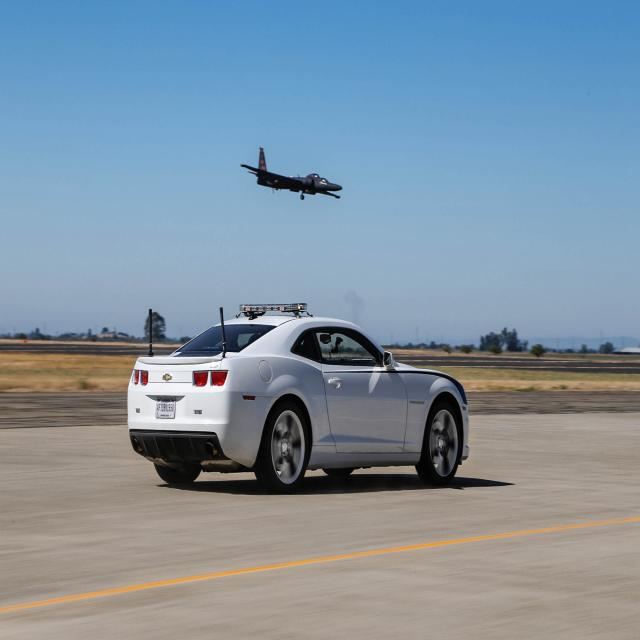MIL_Plane: (240, 146, 342, 200)
